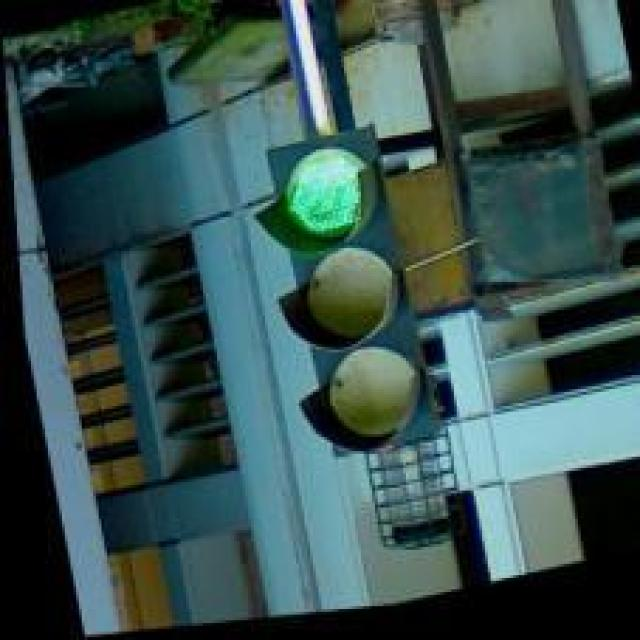traffic light: (255, 123, 423, 457)
